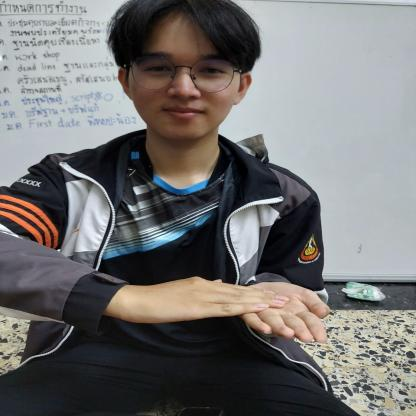Sorry: (94, 254, 339, 347)
